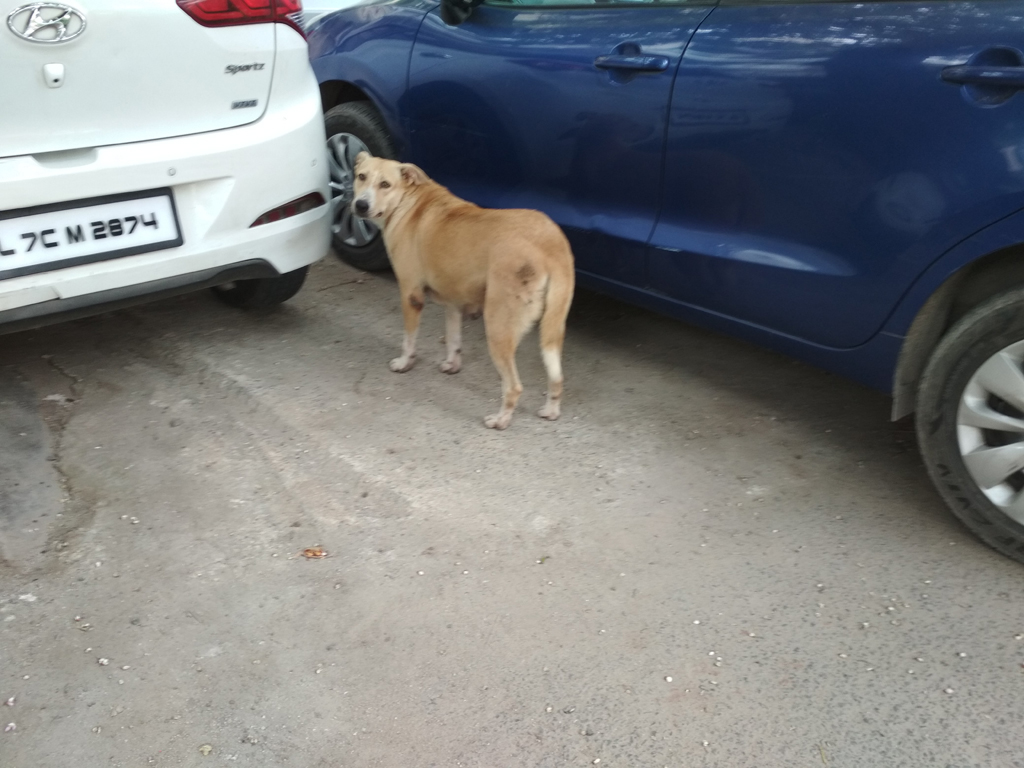dog: (348, 157, 567, 431)
